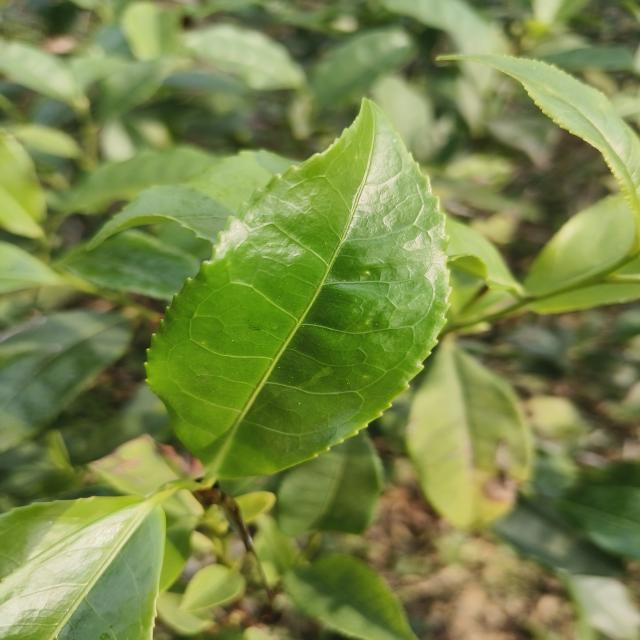Leaf: (146, 100, 448, 478), (443, 55, 640, 222), (406, 338, 531, 528), (0, 502, 165, 640), (89, 151, 290, 249), (0, 310, 132, 452), (524, 195, 640, 313), (283, 554, 417, 640), (0, 497, 139, 579), (276, 432, 381, 536), (60, 146, 218, 213), (57, 229, 200, 301), (312, 26, 415, 108), (558, 461, 640, 560), (184, 24, 305, 90), (0, 38, 87, 106), (0, 130, 45, 238), (98, 61, 164, 120), (179, 564, 246, 612)
